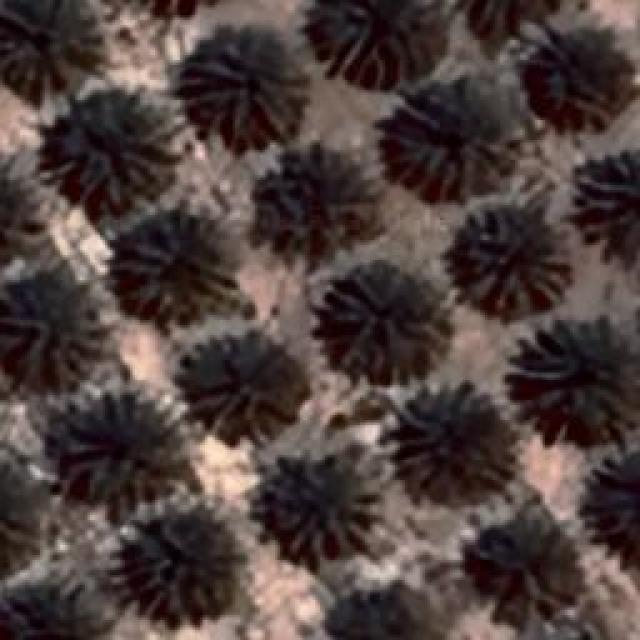PalmTree: (54, 42, 120, 618), (317, 260, 455, 385), (48, 80, 182, 205), (378, 80, 518, 198), (178, 25, 310, 150), (442, 202, 570, 316), (112, 217, 238, 325), (246, 156, 366, 254), (268, 462, 380, 560), (398, 399, 506, 499), (528, 322, 626, 430), (310, 0, 430, 88), (60, 402, 170, 498), (120, 15, 506, 42), (0, 0, 102, 97), (532, 36, 638, 129), (200, 335, 302, 430), (137, 516, 235, 612), (471, 527, 574, 615), (0, 285, 88, 383), (574, 145, 638, 270), (331, 587, 441, 640), (590, 471, 640, 559), (0, 448, 35, 564), (0, 164, 32, 266), (0, 166, 20, 264), (114, 1, 238, 16), (118, 0, 236, 11)
